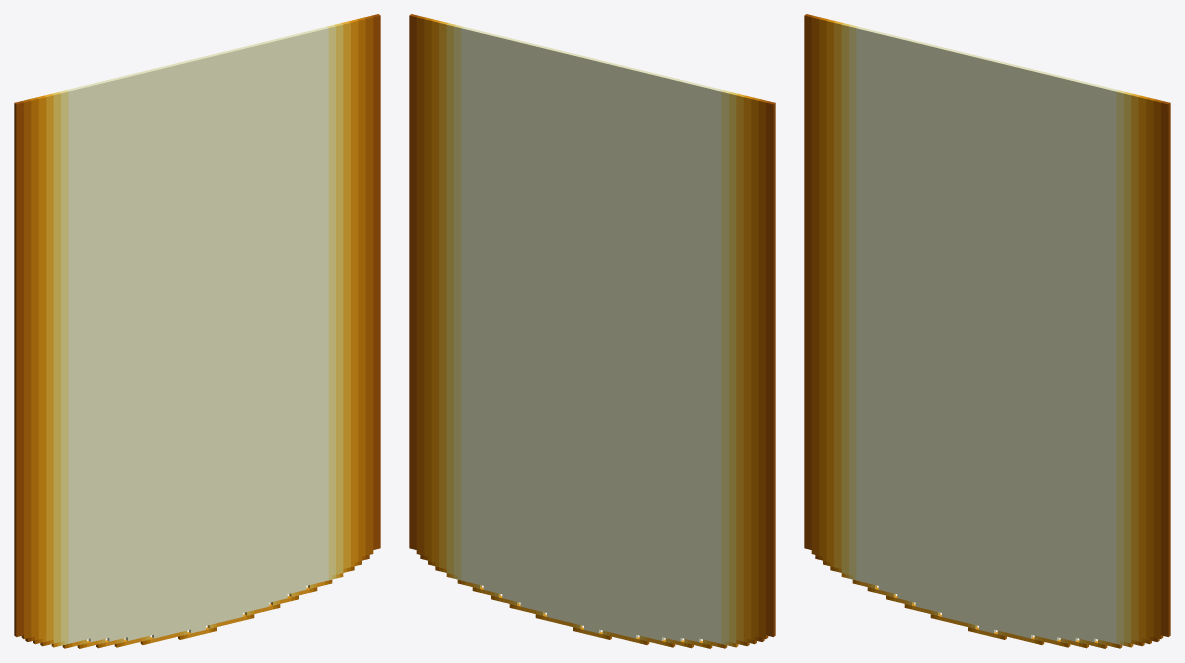
Rendered from Fight_107_3_15_fx.obj.
3 renders of one model, left to right at view 1: azimuth 30°, elevation 25°; view 2: azimuth 150°, elevation 25°; view 3: azimuth 330°, elevation 25°, orthographic.
Size of the model in its own units: 9.8 by 14.8 by 0.1.
Materials: 1 (1 with a texture image).
